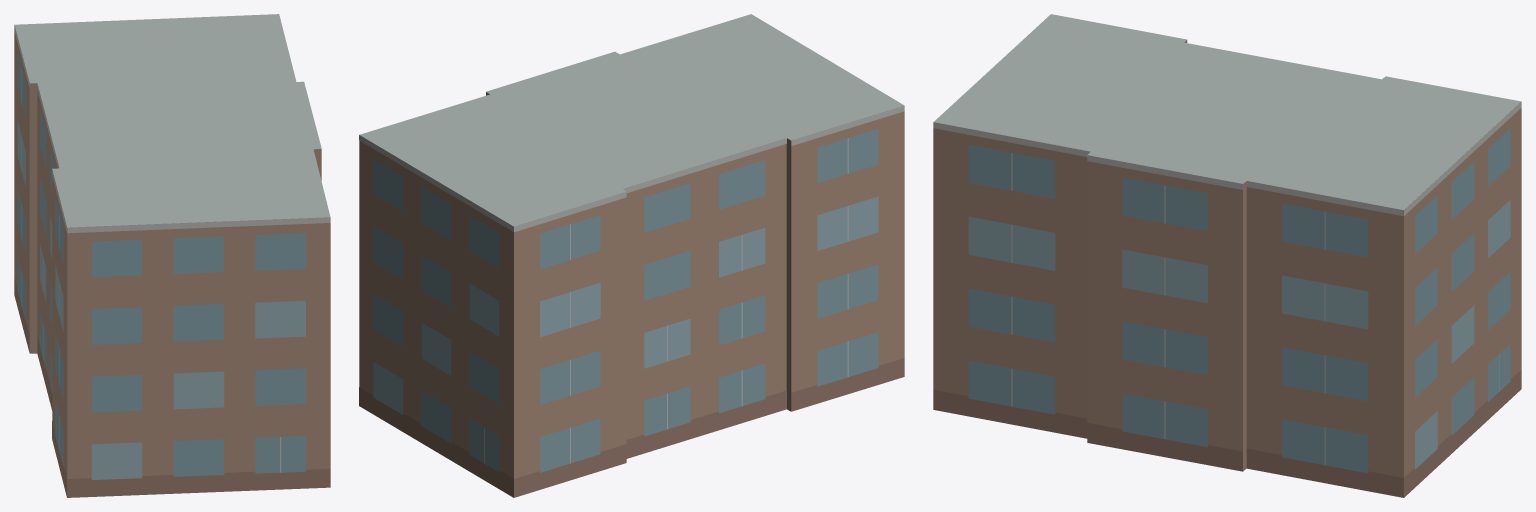
The model's file is survey-upis-33024950.glb.
The picture shows the model from 3 angles, left to right: view 1: azimuth 30°, elevation 25°; view 2: azimuth 150°, elevation 25°; view 3: azimuth 270°, elevation 25°; orthographic projection. The views are drawn at different scales.
Visible parts, largest first — view 1: survey-upis-33024950.tmp; view 2: survey-upis-33024950.tmp; view 3: survey-upis-33024950.tmp.
Boxes of the visible parts, bbox=[...] form: survey-upis-33024950.tmp: bbox=[14, 14, 330, 497]; survey-upis-33024950.tmp: bbox=[359, 14, 904, 497]; survey-upis-33024950.tmp: bbox=[933, 14, 1521, 497].
Size of the model in its own units: 16.98 by 11.6 by 21.5.
